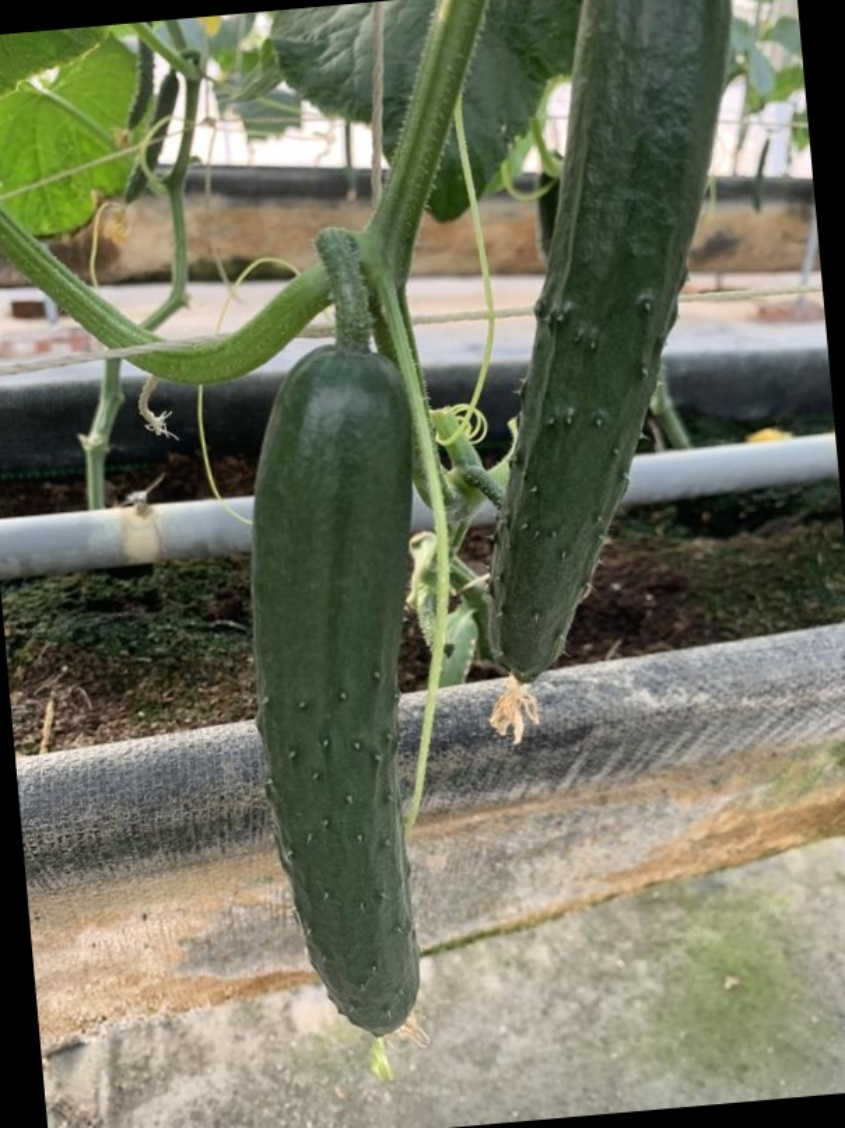mature: (477, 0, 734, 687)
